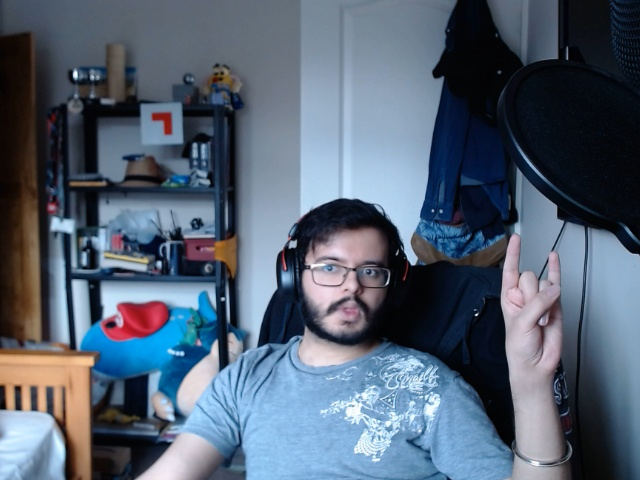Rock on: (486, 220, 573, 391)
